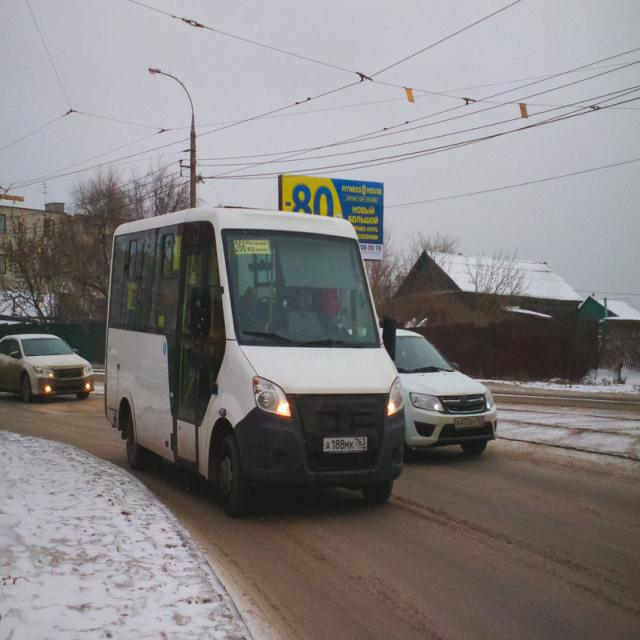number-of-bus: (236, 240, 248, 254)
